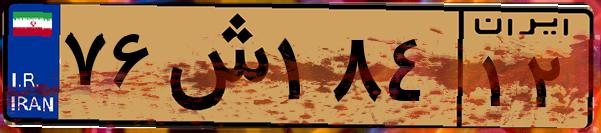1: (270, 28, 330, 110), (475, 38, 525, 113)
2: (525, 38, 570, 115)
4: (385, 28, 445, 110)
6: (110, 28, 158, 98)
7: (57, 26, 110, 100)
8: (330, 28, 385, 110)
ش: (158, 12, 270, 120)
